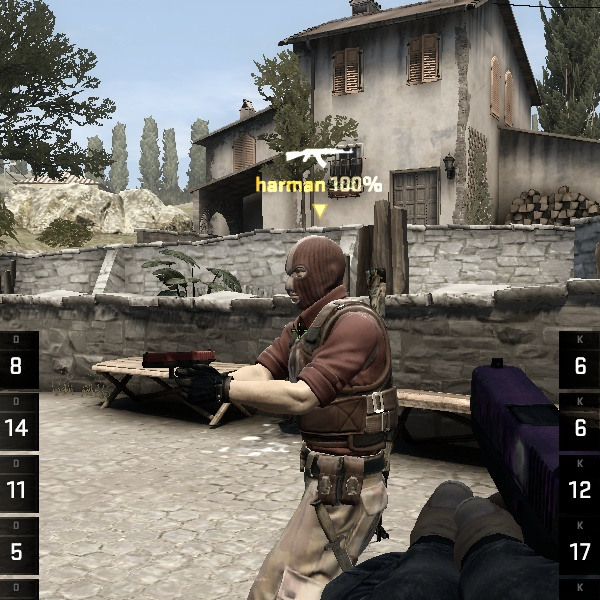t_body: (219, 218, 434, 557)
t_head: (262, 222, 371, 326)
